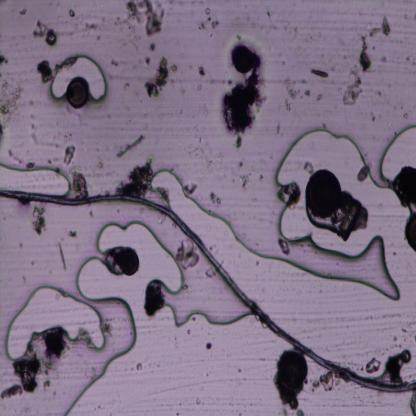Air bubble: (55, 260, 146, 415), (251, 220, 401, 301), (76, 224, 186, 298), (6, 284, 107, 358), (272, 126, 380, 188), (158, 263, 237, 329), (0, 156, 71, 197), (48, 53, 108, 101), (379, 124, 416, 180)
Anthropogenic: (0, 186, 416, 394)
Background material: (223, 72, 264, 148), (0, 345, 42, 403), (116, 154, 156, 195), (123, 0, 168, 34), (0, 75, 25, 130), (41, 330, 69, 376), (380, 348, 413, 386), (144, 54, 172, 96), (339, 69, 364, 110), (394, 163, 416, 207), (173, 244, 201, 273), (142, 282, 165, 316), (31, 21, 59, 47), (282, 77, 312, 101), (26, 204, 48, 236), (70, 167, 90, 202), (116, 132, 144, 157), (308, 372, 337, 394), (278, 392, 306, 414), (35, 56, 55, 85), (369, 14, 392, 38), (198, 8, 220, 33), (359, 34, 372, 70), (234, 161, 250, 189), (362, 356, 382, 376), (56, 238, 67, 272), (62, 144, 77, 165), (182, 180, 199, 198), (309, 66, 330, 79), (208, 191, 222, 208), (84, 19, 100, 33), (0, 54, 10, 71), (64, 228, 78, 240), (197, 65, 209, 79), (67, 9, 77, 21)
Diatom: (306, 167, 343, 219), (279, 350, 308, 392), (65, 78, 89, 108), (232, 45, 255, 76), (119, 248, 141, 278), (404, 215, 416, 251)
